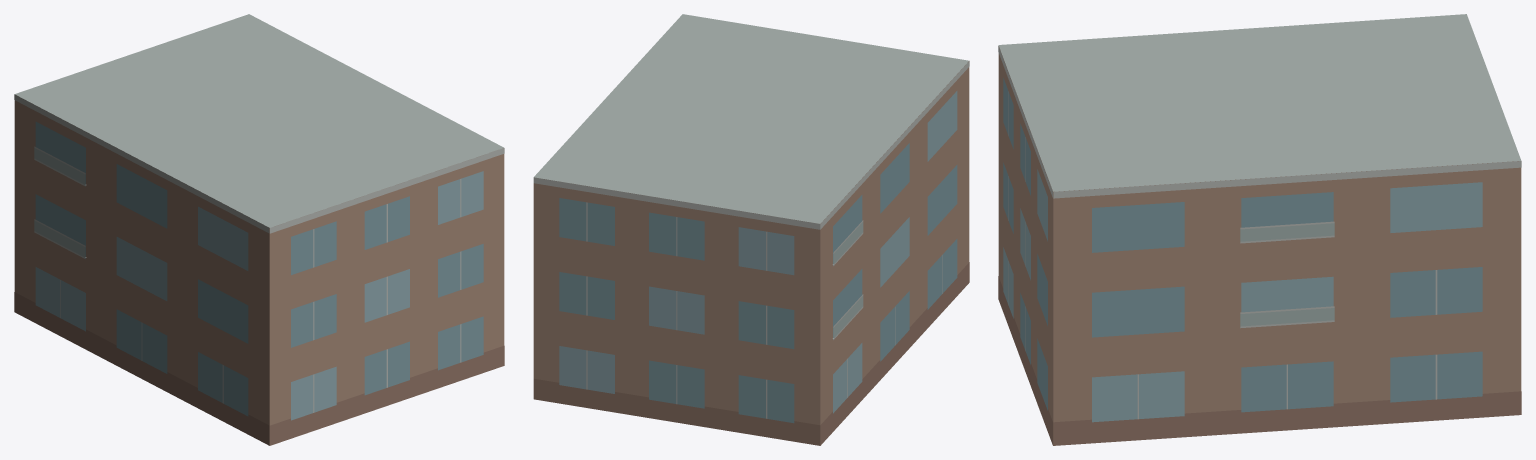
The model's file is survey-upis-32983897.glb.
The picture shows the model from 3 angles, left to right: view 1: azimuth 30°, elevation 25°; view 2: azimuth 150°, elevation 25°; view 3: azimuth 270°, elevation 25°; orthographic projection. The views are drawn at different scales.
Visible parts, largest first — view 1: survey-upis-32983897.tmp; view 2: survey-upis-32983897.tmp; view 3: survey-upis-32983897.tmp.
Part boxes in pixels (x1,y1,x2,y2): survey-upis-32983897.tmp: [14, 14, 504, 445]; survey-upis-32983897.tmp: [533, 14, 969, 445]; survey-upis-32983897.tmp: [998, 14, 1521, 445].
Size of the model in its own units: 13.74 by 9.15 by 17.08.
